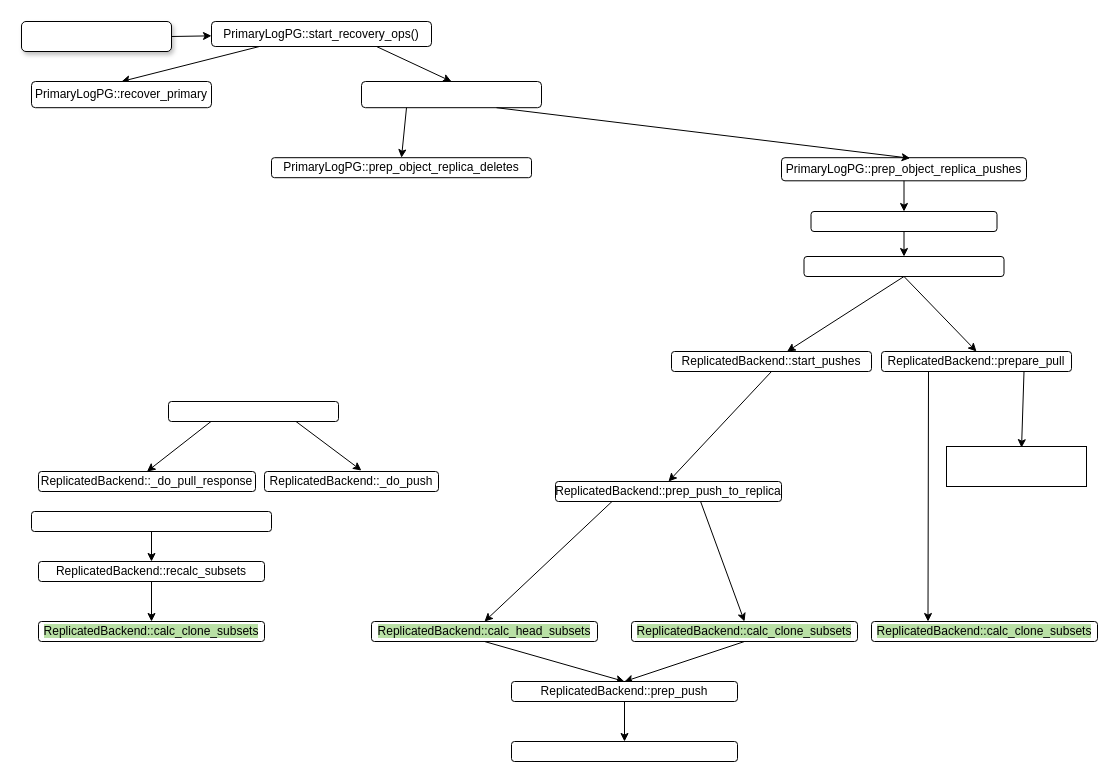
This 1115x779 diagram has some shape labels left out. Here are the shapes that lost their labels. From the top down, the centre of each, then its label:
At point (97, 37): "OSD::do_recovery()".
At point (451, 94): "PrimaryLogPG::recover_replicas".
At point (903, 221): "PrimaryLogPG::recover_missing".
At point (903, 266): "ReplicatedBackend::recover_object".
At point (253, 411): "ReplicatedBackend::do_push".
At point (1016, 466): "pulling head or unversioned object always pull the whole thing.".
At point (151, 521): "ReplicatedBackend::handle_pull_response".
At point (624, 751): "ReplicatedBackend::build_push_op".
